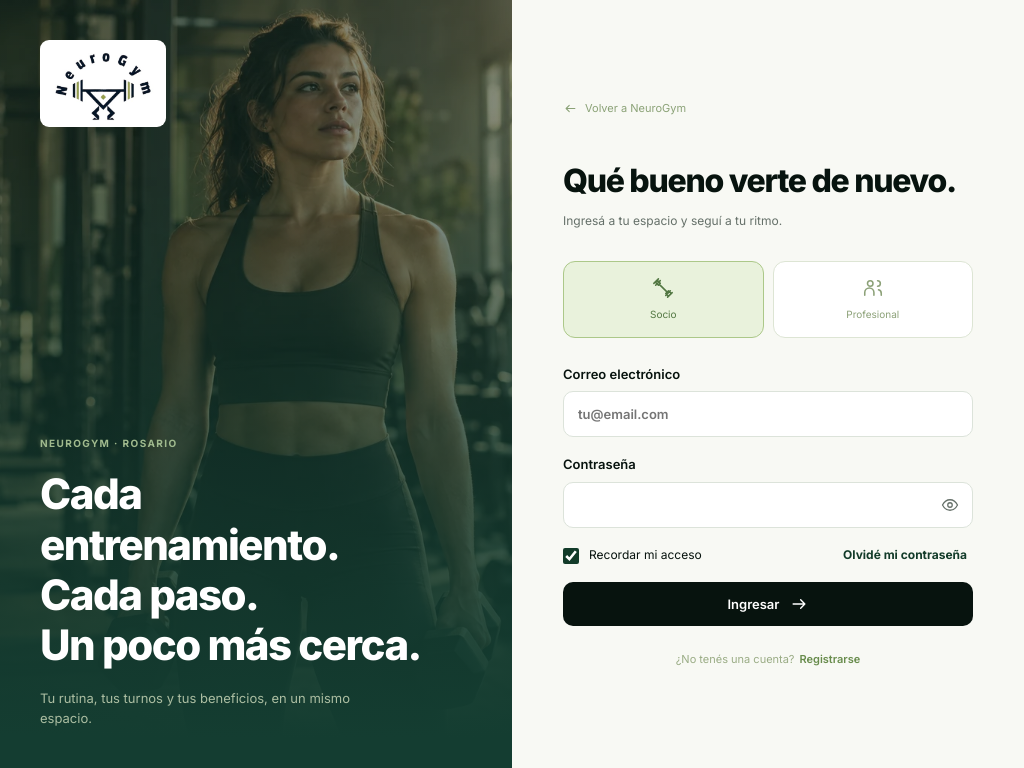
Scenario: Código por correo › al ingresar sin haber confirmado el correo pide el código y después entra
Type "nutri@gmail.com" into the field labelled "Correo electrónico" at x=768, y=414, box [563,391,973,437]
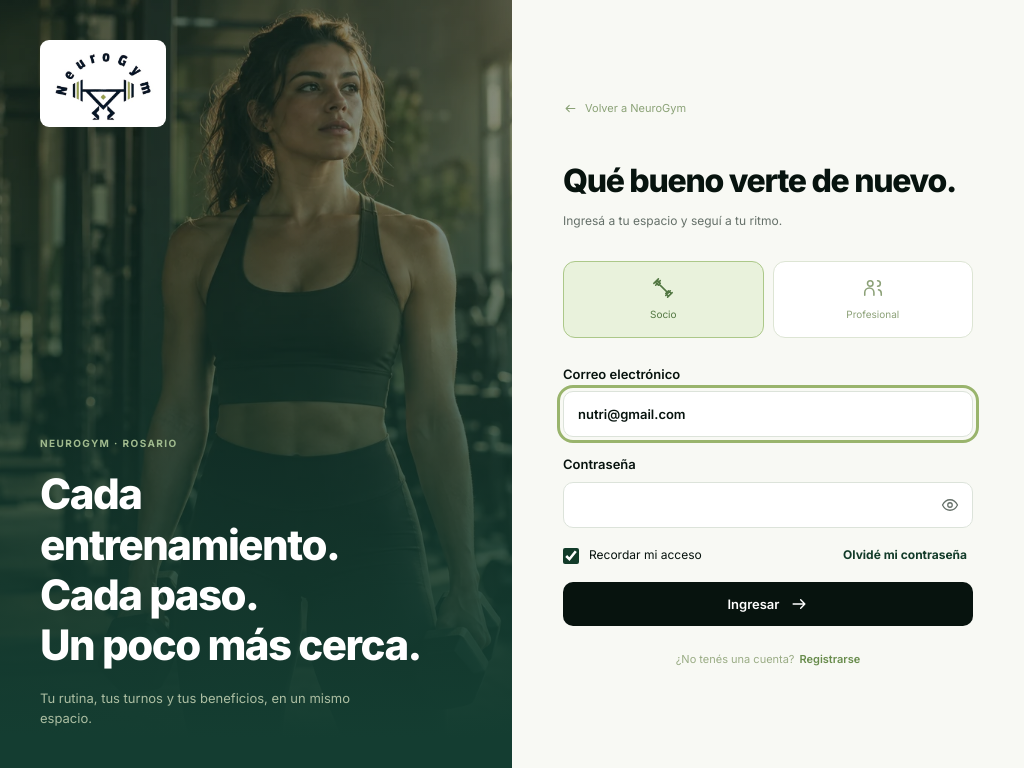
Type "Prueba1234" into the password field labelled "Contraseña" at x=768, y=505, box [563,482,973,528]
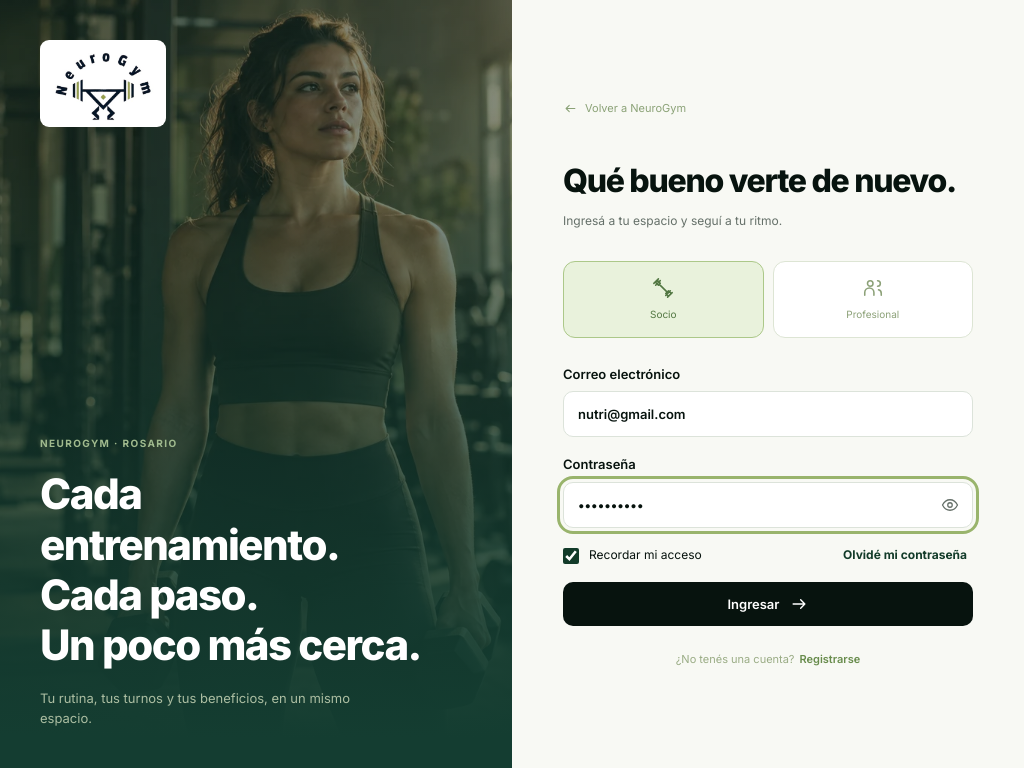
Click the button "Ingresar" at x=768, y=604, box [563,582,973,626]
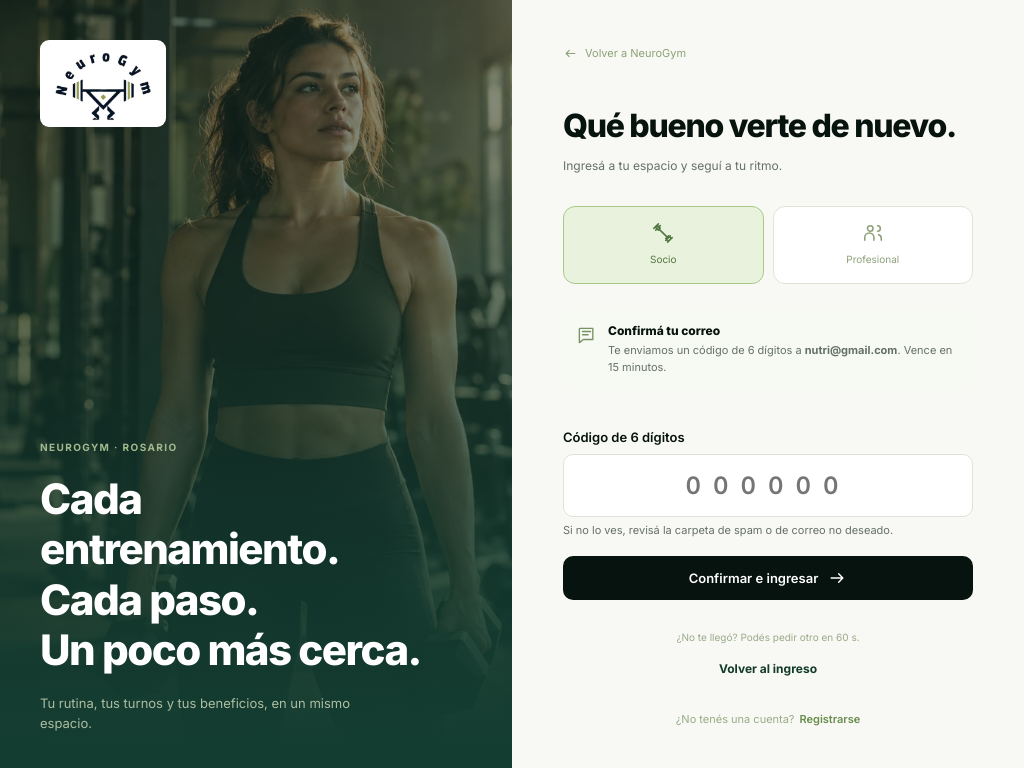
Expected: the heading "Confirmá tu correo" is shown, [608,322,720,338]
Type "654321" into the field labelled "Código de 6 dígitos" at x=768, y=486, box [563,454,973,517]
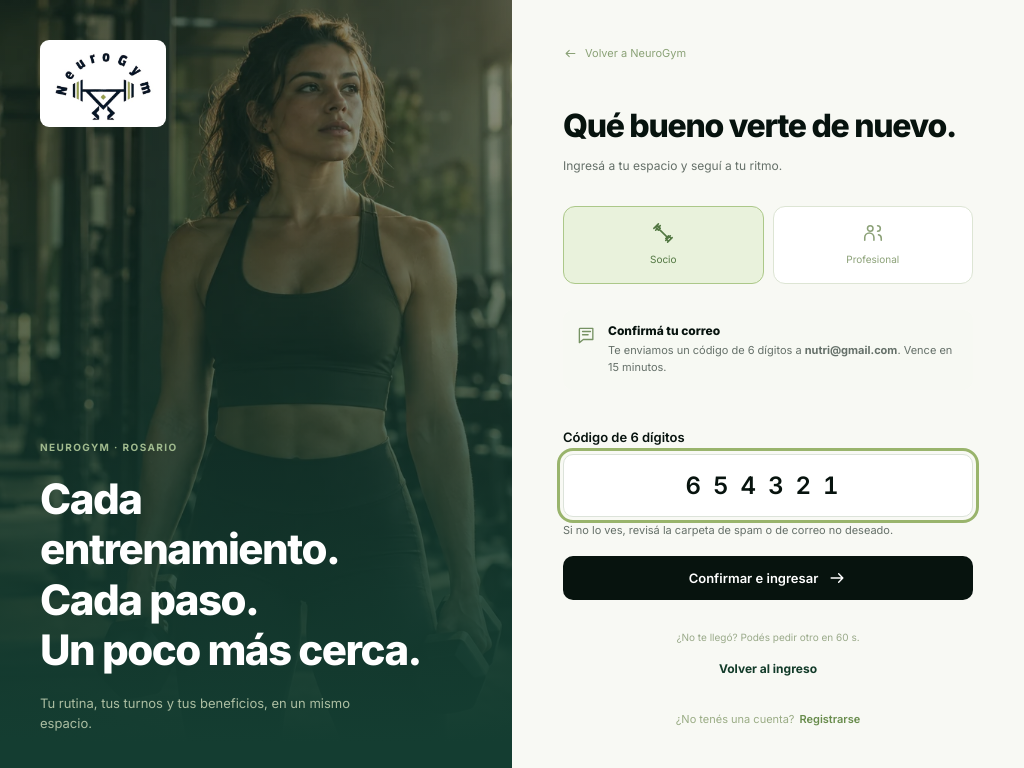
Click the button "Confirmar e ingresar" at x=768, y=578, box [563,556,973,600]
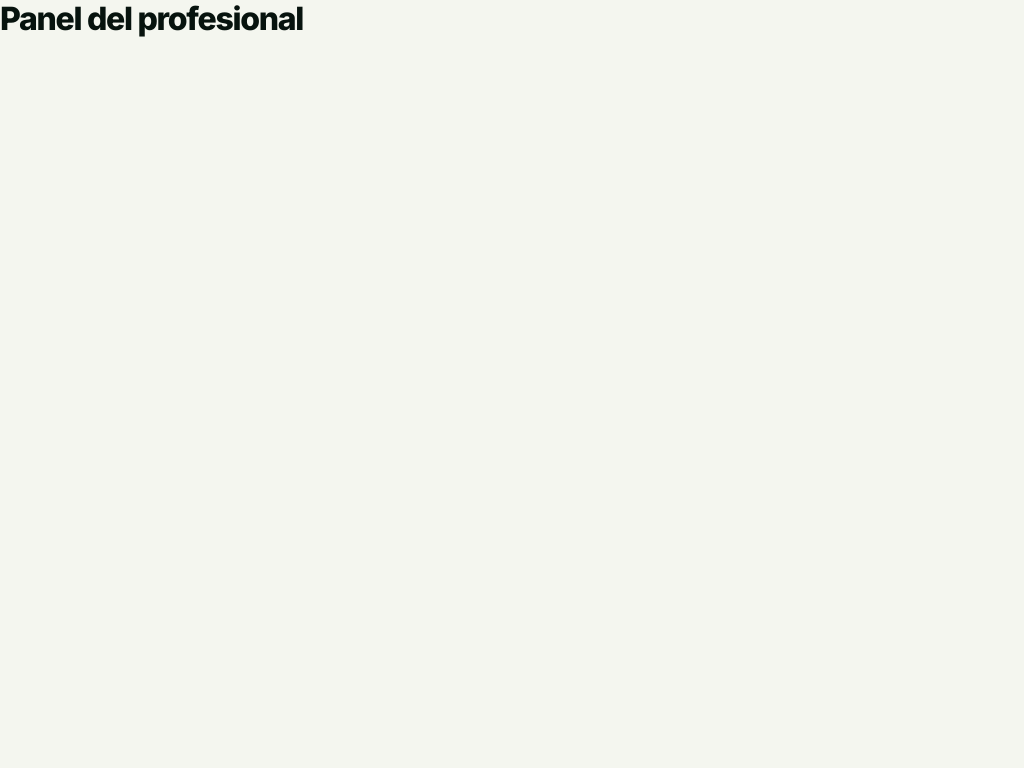
Expected: the heading "Panel del profesional" is shown, [0,0,303,38]
